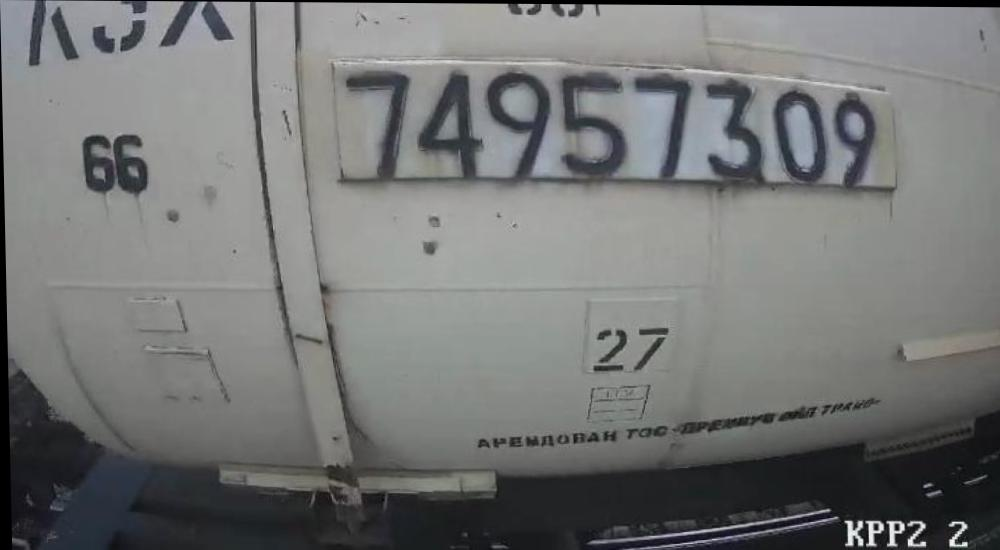Wagon-number: (333, 61, 883, 189)
